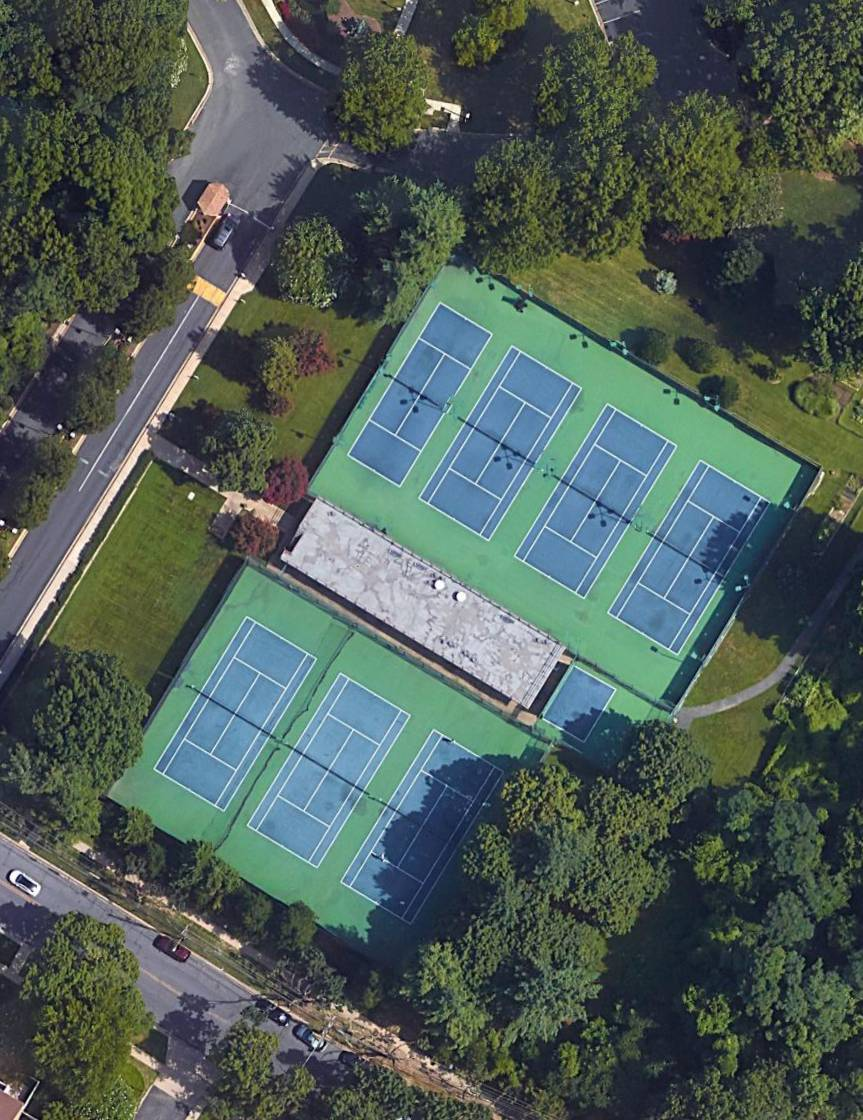small vehicle: (208, 209, 243, 254), (253, 995, 294, 1030), (291, 1022, 331, 1057), (5, 866, 44, 900), (155, 934, 192, 966)
tennis court: (341, 727, 506, 929), (418, 344, 584, 542), (154, 614, 318, 814), (247, 672, 412, 868), (515, 401, 678, 599), (608, 459, 773, 654)
